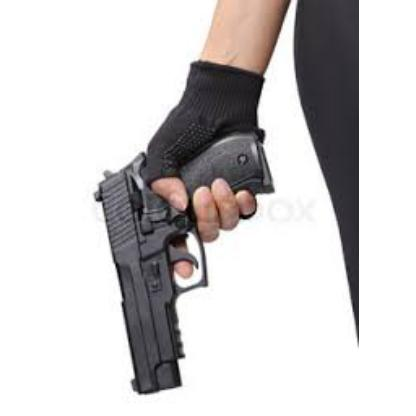gun: (92, 126, 276, 392)
